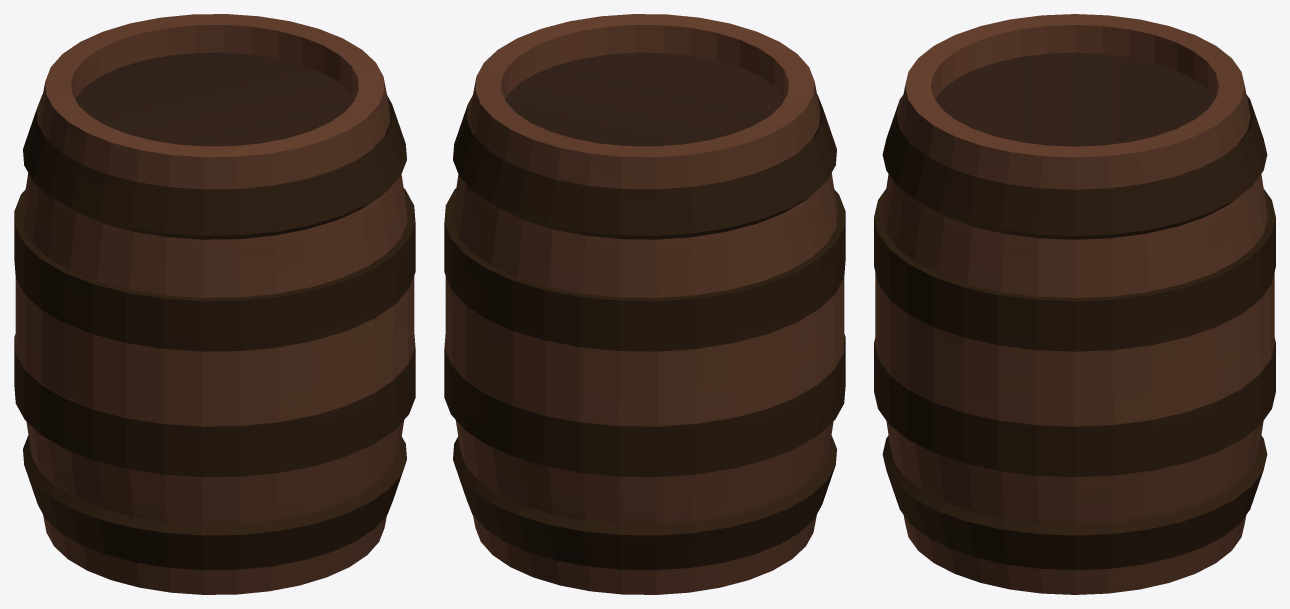
The model's file is Barrel.fbx.
The picture shows the model from 3 angles, left to right: view 1: azimuth 30°, elevation 25°; view 2: azimuth 150°, elevation 25°; view 3: azimuth 270°, elevation 25°; orthographic projection.
Parts seen in each view (by area): view 1: Barrel; view 2: Barrel; view 3: Barrel.
Part boxes in pixels (x1,y1,x2,y2): Barrel: (14,14,415,594); Barrel: (444,14,845,594); Barrel: (874,14,1275,594).
Bounding box in the file's own units: 201 × 242 × 201.
